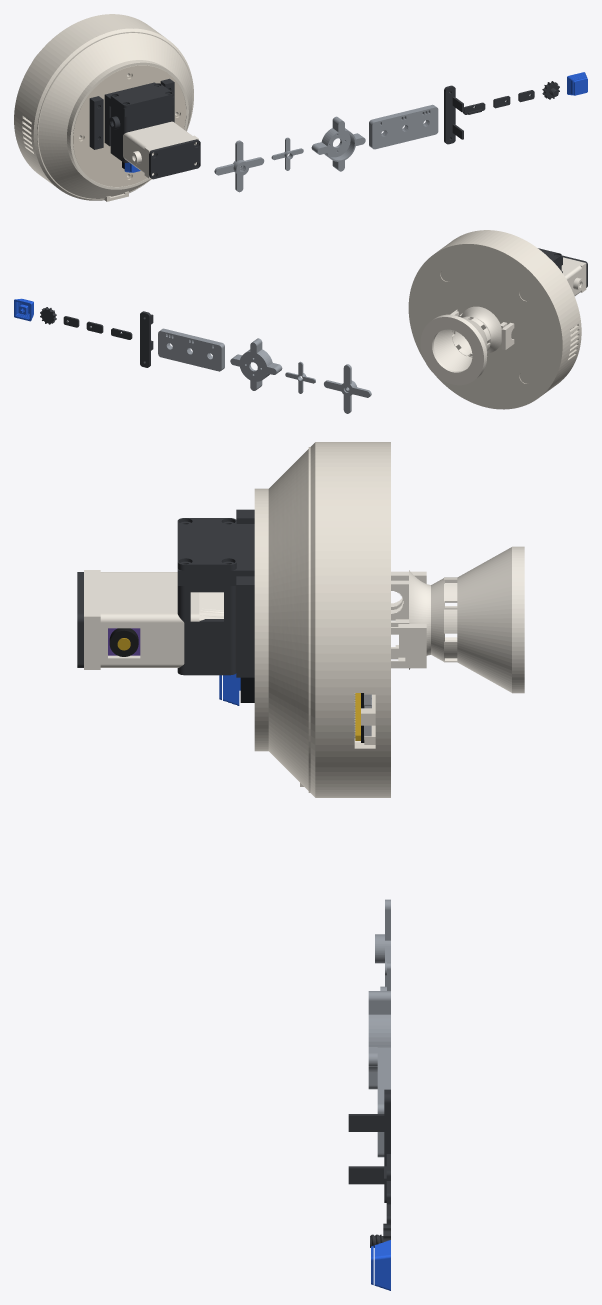
Rendered from hotaru.glb.
3 views of the same model, one above another, from view 1: azimuth 30°, elevation 25°; view 2: azimuth 150°, elevation 25°; view 3: azimuth 270°, elevation 25° (orthographic). The views are drawn at different scales.
Parts seen in each view (by area): view 1: shoulder, base, lid, base-joint, spline-test, arm-lower, cap-shoulder, horn-adapter, cap-base, spk-clamp, horn-mg996r, keycap (+1 smaller); view 2: base, shade, spline-test, horn-adapter, arm-lower, horn-mg996r, spk-clamp, keycap, horn-sg90; view 3: base, shoulder, shade, arm-lower, base-joint, cap-base, spk-clamp, horn-adapter.
Part boxes in pixels (left/top/right/bottom): shoulder: left=33, top=28, right=193, bottom=200; base: left=14, top=14, right=165, bottom=201; lid: left=73, top=65, right=186, bottom=186; base-joint: left=89, top=78, right=174, bottom=162; spline-test: left=369, top=104, right=438, bottom=149; arm-lower: left=123, top=121, right=198, bottom=178; cap-shoulder: left=149, top=139, right=200, bottom=179; horn-adapter: left=311, top=116, right=365, bottom=171; cap-base: left=110, top=83, right=173, bottom=108; spk-clamp: left=444, top=85, right=463, bottom=144; horn-mg996r: left=214, top=140, right=264, bottom=192; keycap: left=567, top=72, right=587, bottom=95; base: left=408, top=230, right=581, bottom=409; shade: left=420, top=306, right=507, bottom=385; spline-test: left=158, top=328, right=224, bottom=371; horn-adapter: left=230, top=338, right=282, bottom=390; arm-lower: left=501, top=257, right=586, bottom=350; horn-mg996r: left=324, top=364, right=371, bottom=413; spk-clamp: left=140, top=311, right=153, bottom=367; keycap: left=14, top=298, right=33, bottom=321; horn-sg90: left=285, top=361, right=315, bottom=393; base: left=300, top=442, right=390, bottom=797; shoulder: left=254, top=442, right=315, bottom=797; shade: left=391, top=546, right=524, bottom=693; arm-lower: left=84, top=570, right=426, bottom=669; base-joint: left=177, top=509, right=254, bottom=677; cap-base: left=177, top=518, right=236, bottom=570; spk-clamp: left=348, top=1089, right=390, bottom=1202; horn-adapter: left=368, top=991, right=390, bottom=1089.
Bounding box in the file's own units: 570 × 203 × 201.
